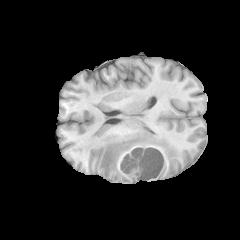glioma: (97, 129, 184, 182)
